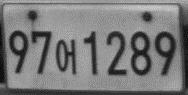1: (83, 30, 98, 75)
2: (105, 30, 128, 76)
7: (30, 29, 53, 74)
8: (130, 29, 152, 76)
9: (153, 31, 177, 78), (8, 29, 29, 74)
어: (54, 38, 77, 77)
